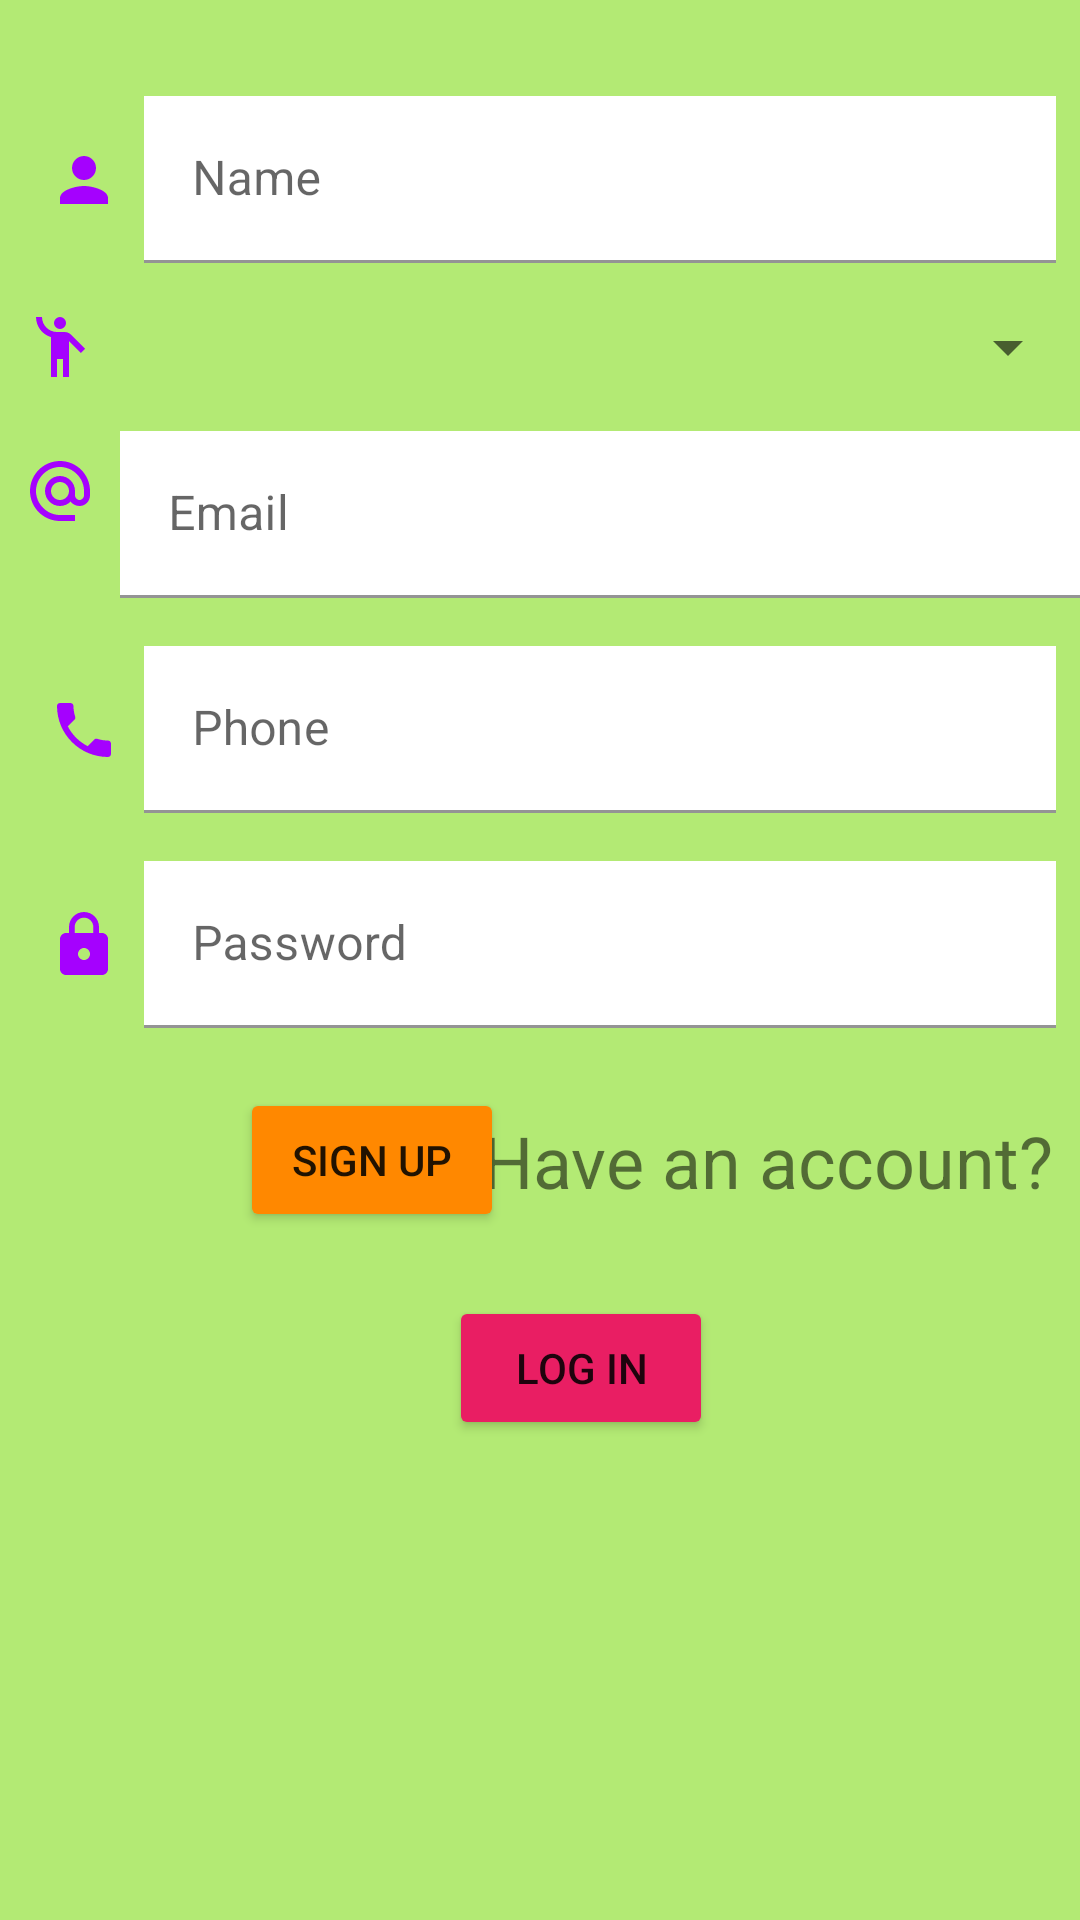

Icon click points for this 1080px×1920px phone screenshot, format [x,y]:
emoji people: [60,347]
lock: [84,943]
person: [84,180]
